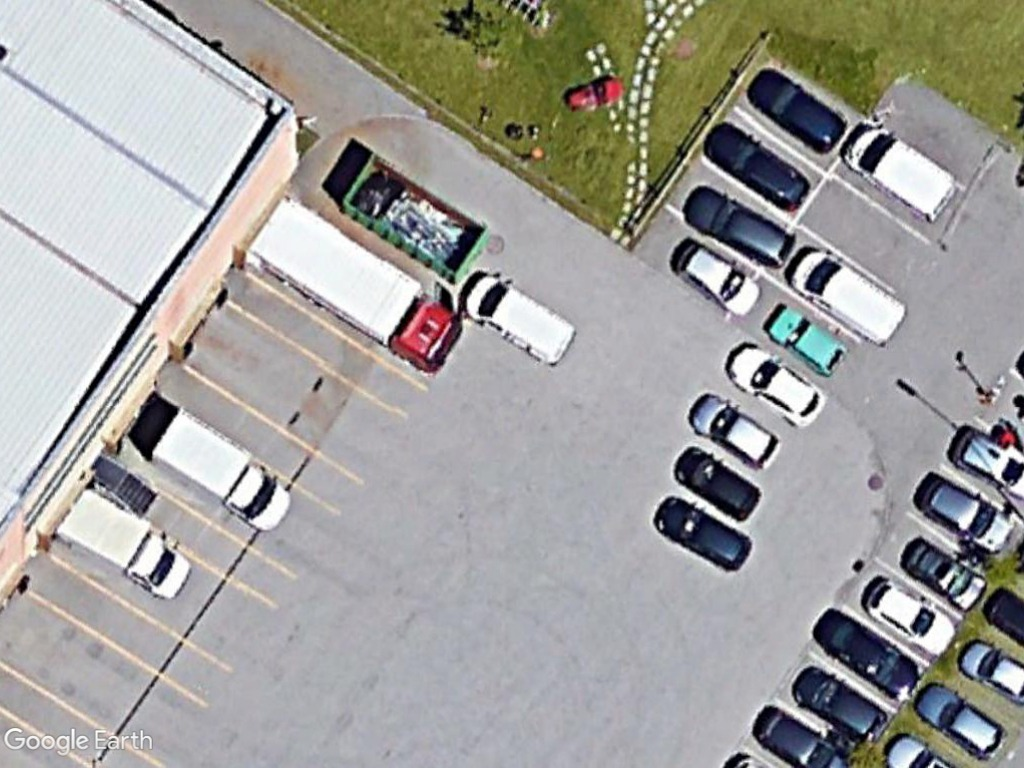car: (700, 120, 812, 215), (677, 187, 800, 270), (742, 62, 850, 155), (725, 340, 829, 430), (913, 476, 1021, 562), (790, 662, 892, 747), (649, 496, 752, 580), (683, 387, 782, 473), (865, 569, 959, 659), (911, 682, 1009, 766), (670, 238, 765, 321), (669, 441, 768, 520), (896, 530, 989, 613), (762, 304, 850, 377)
truck: (251, 195, 466, 376), (151, 410, 296, 534), (58, 486, 197, 604)
van: (783, 240, 913, 350), (838, 127, 965, 227), (457, 270, 583, 367)
